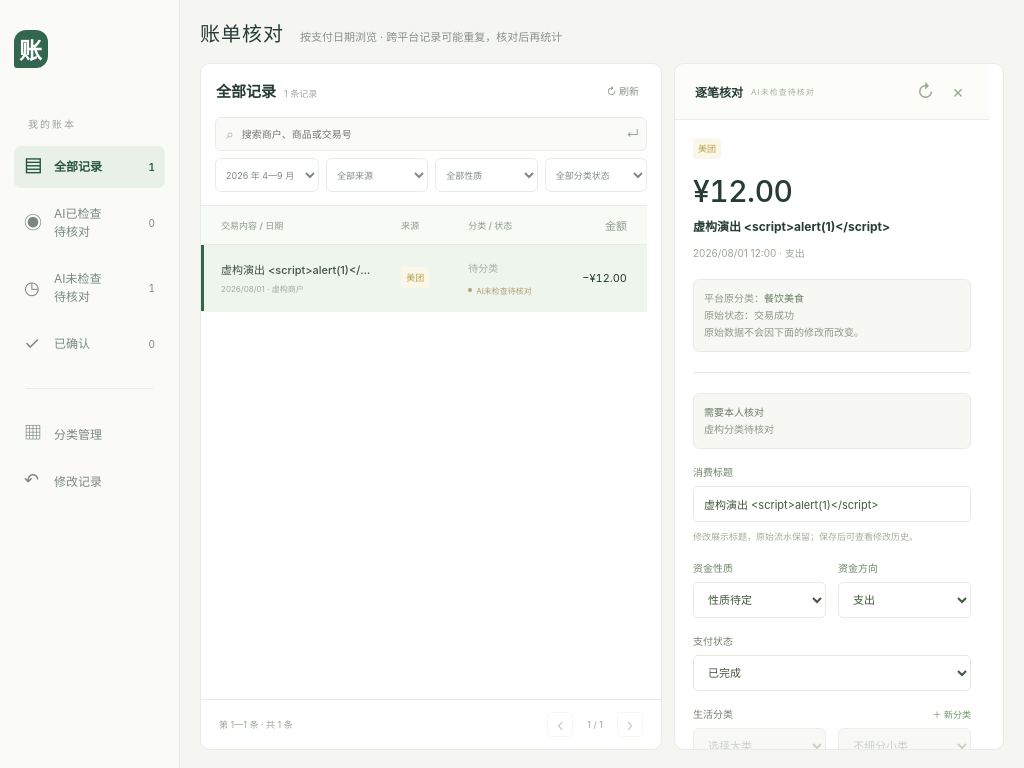
Test: refreshes the row and detail title after saving without confirming
Replace the text in the field labelled "消费标题" with "虚构新活动标题": coordinates (832, 504) [693,486,971,522]
(page scrolled)
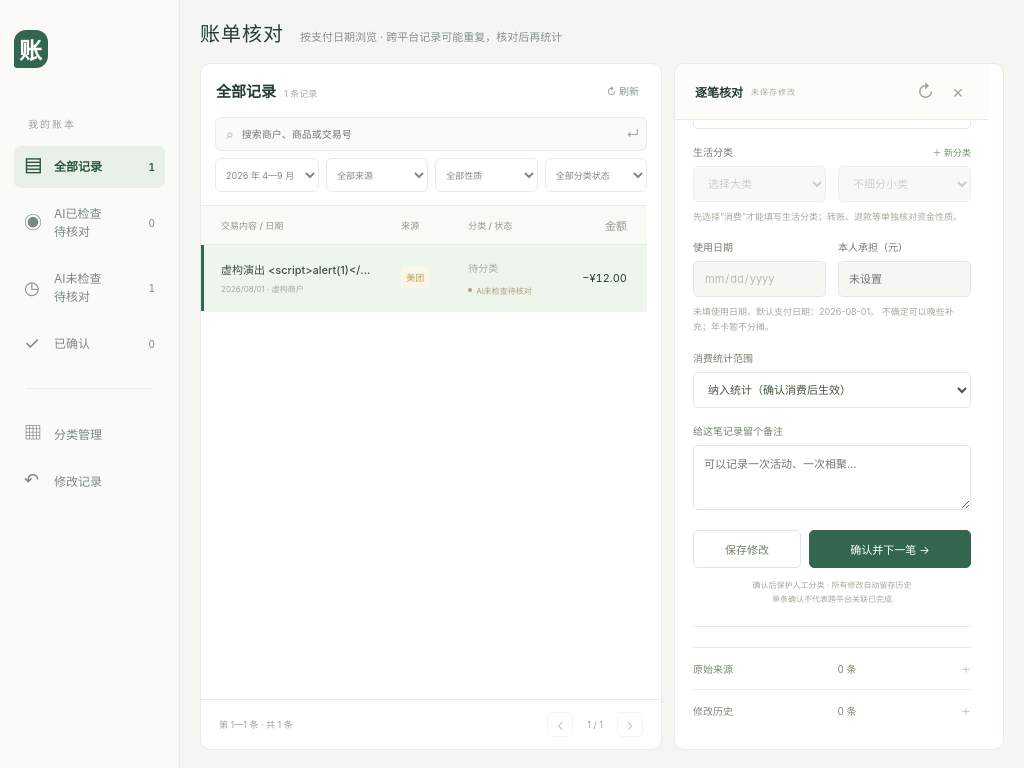
Click the button "保存修改": coordinates (747, 549) [693,530,801,568]
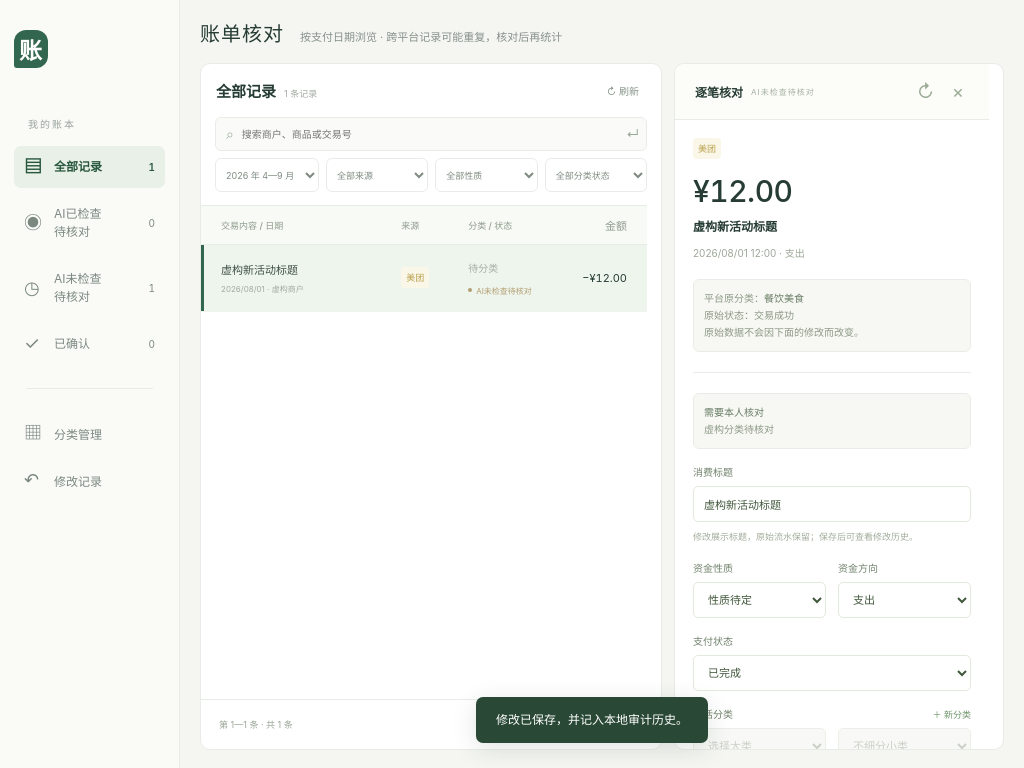
Expected: the row "虚构新活动标题 2026/08/01 · 虚构商户 美团 待分类 AI未检查待核对 −¥12.00" is shown, [201,244,647,311]
Expected: the heading "虚构新活动标题" is shown, [693,219,777,234]
